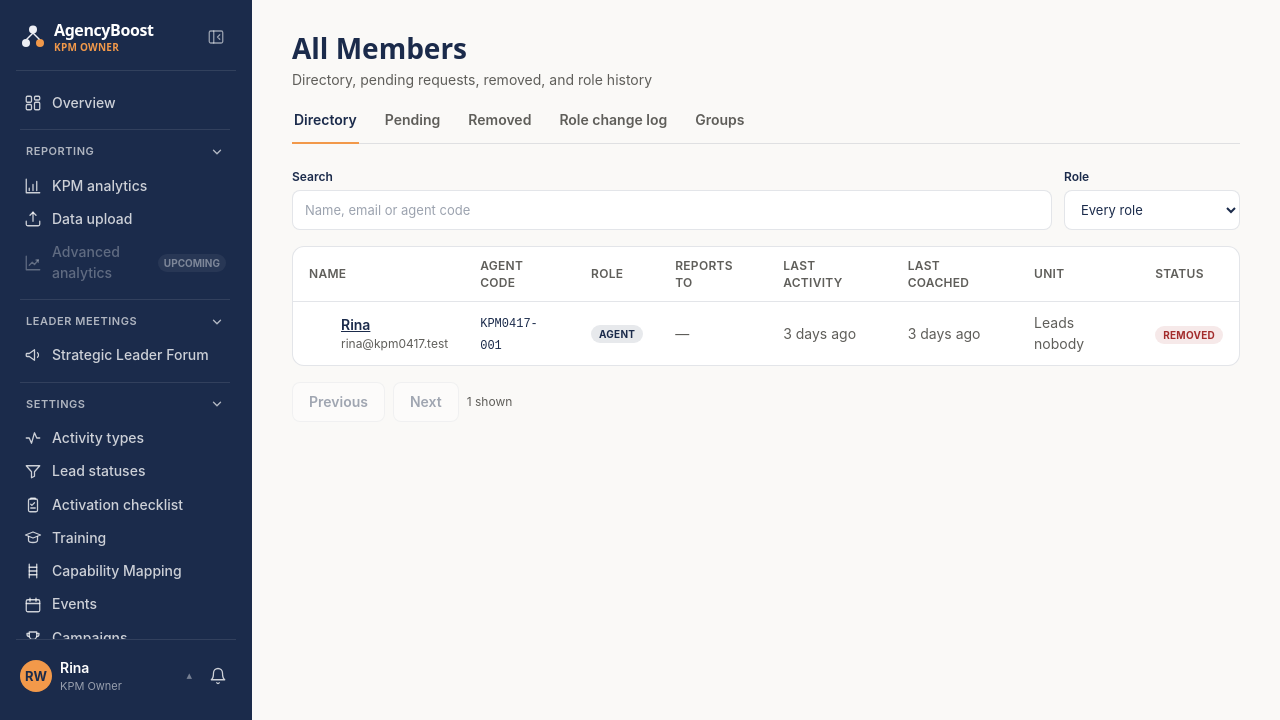
Scenario: members directory (P3-T1 AC-3) › Last activity and Last coached (P18-T1 AC-8, D-directory) › AC-8: the Removed tab keeps its own columns, as the prototype’s does
Click the button "Removed" at coordinates (500, 127), box [466,110,533,144]
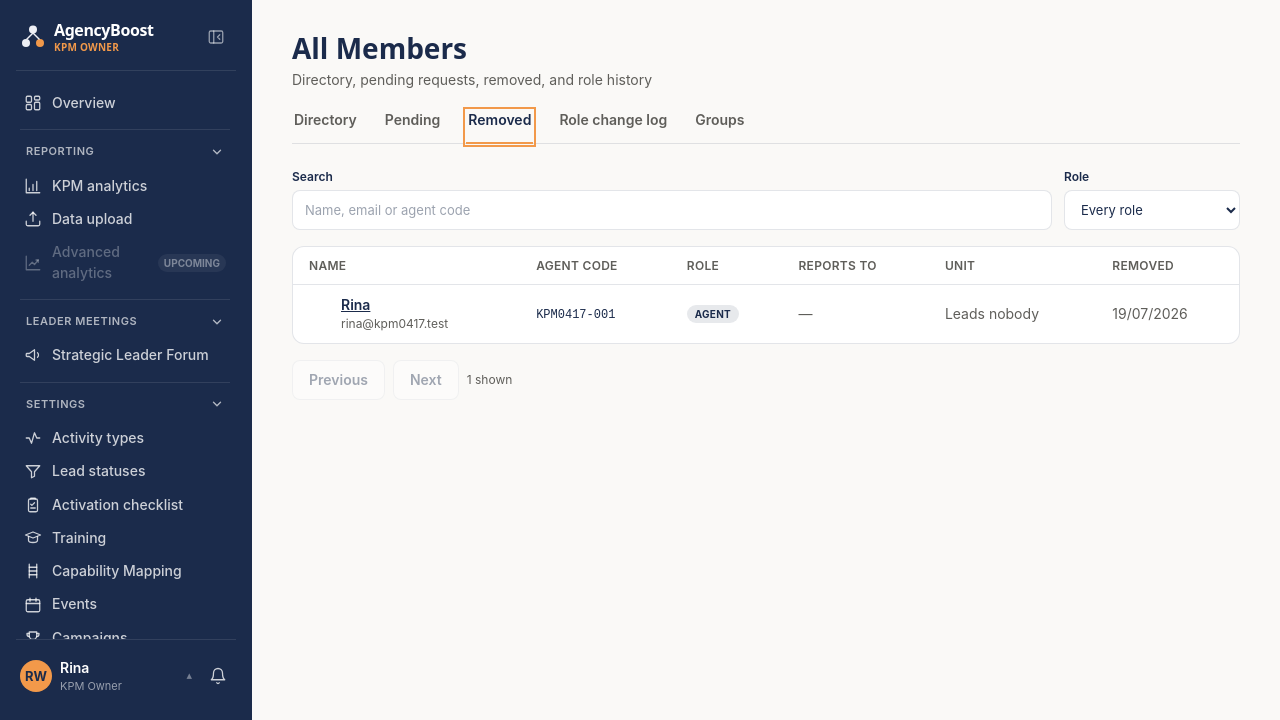
Expected: the column heading "Removed" is shown, [1096,247,1239,284]
Expected: the text "Last activity" is gone
Expected: the text "Last coached" is gone
